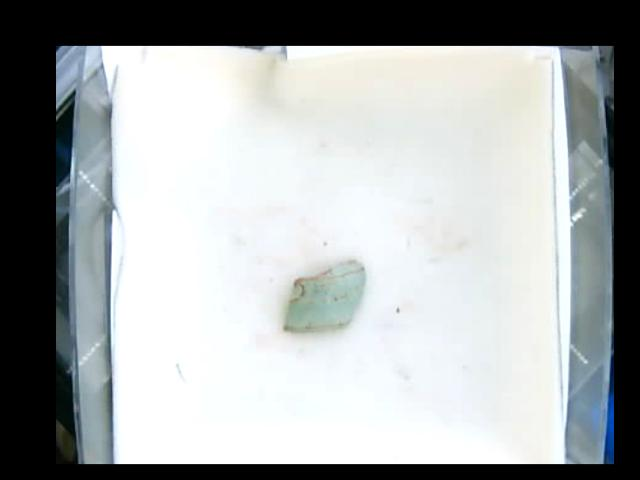China: (281, 257, 365, 331)
